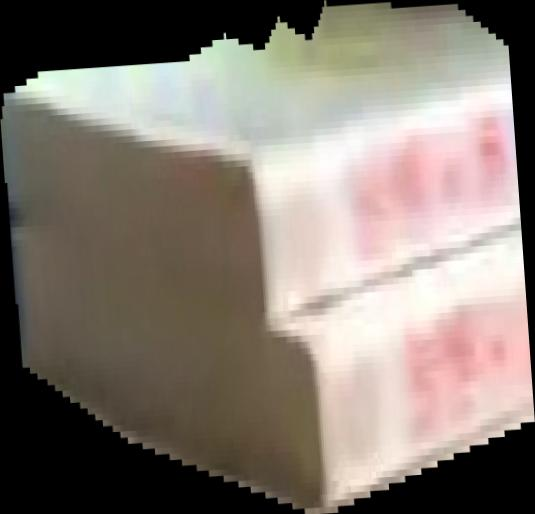flat: (1, 1, 535, 514)
